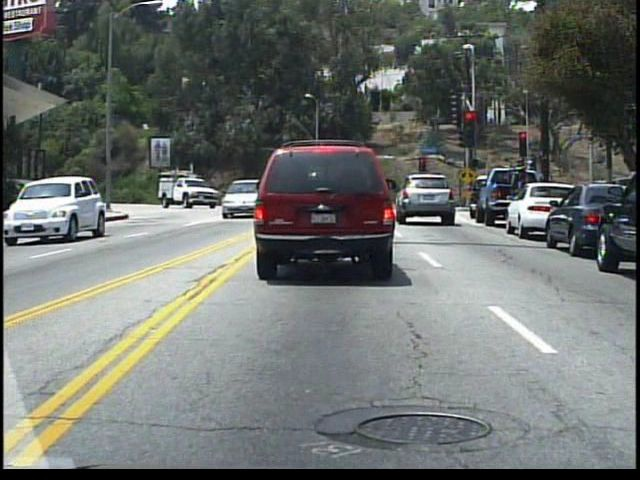person: (465, 178, 478, 208)
